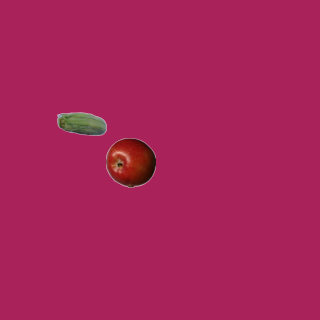Apple Braeburn: (105, 137, 155, 187)
Corn Husk: (56, 100, 106, 150)
